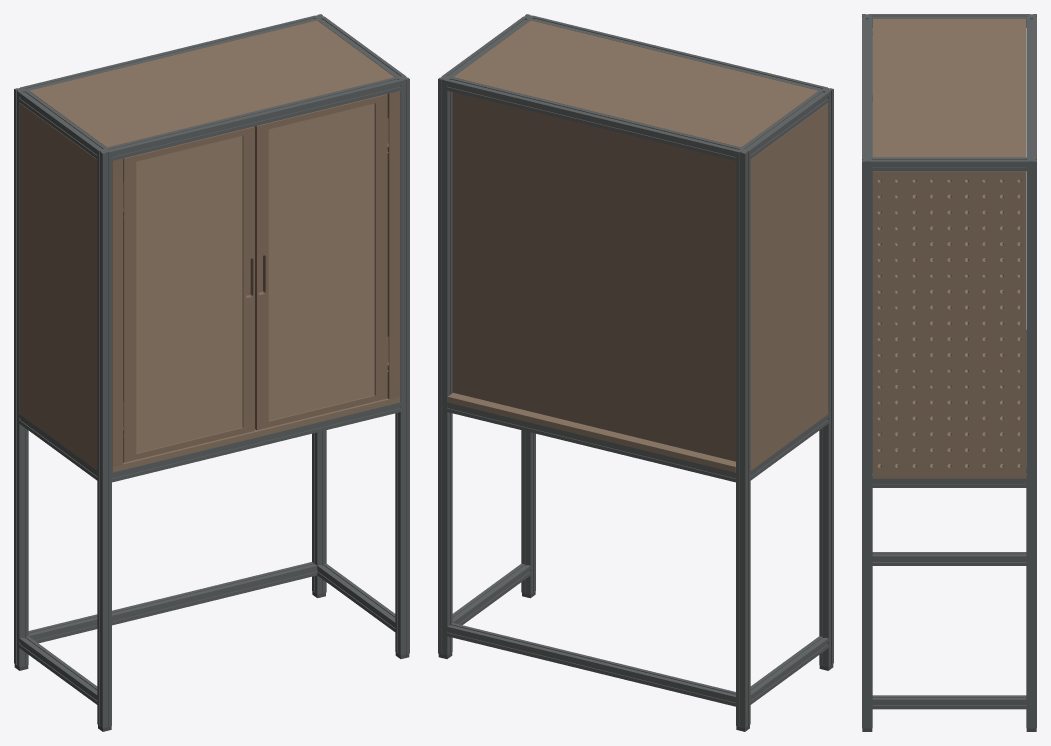
File: closed.glb
3 renders of one model, left to right at view 1: azimuth 30°, elevation 25°; view 2: azimuth 150°, elevation 25°; view 3: azimuth 270°, elevation 25°, orthographic.
Visible parts, largest first — view 1: L-front-panel, R-front-panel, B02-left-side, B01-top-inset, Post-0-0, Post-970-0, Post-0-470, Beam-top-front, R-jamb, L-hinge-stile, R-meeting-stile, R-hinge-stile (+16 smaller); view 2: B04-back, B02-left-side, B01-top-inset, Post-0-470, Post-970-470, Post-0-0, Beam-top-rear, Beam-lower-rear, B00-bottom-notched, Beam-body-rear, Post-970-0, Beam-top-front (+5 smaller); view 3: B03-right-pegboard, B01-top-inset, Post-970-0, Post-970-470, Beam-lower-side-970, Beam-top-side-970, Beam-lower-side-0, Beam-body-side-970, Beam-top-rear, Beam-top-front, Beam-top-side-0, B00-bottom-notched.
Part boxes in pixels (box(x1,y1,x2,y2)): L-front-panel: box(136, 136, 242, 452); R-front-panel: box(268, 103, 374, 420); B02-left-side: box(19, 103, 97, 470); B01-top-inset: box(29, 20, 394, 147); Post-0-0: box(97, 147, 111, 728); Post-970-0: box(395, 75, 409, 655); Post-0-470: box(14, 86, 28, 667); Beam-top-front: box(107, 77, 400, 160); R-jamb: box(387, 91, 400, 399); L-hinge-stile: box(123, 155, 136, 462); R-meeting-stile: box(254, 123, 268, 430); R-hinge-stile: box(374, 94, 387, 401); B04-back: box(452, 92, 735, 461); B02-left-side: box(750, 103, 828, 470); B01-top-inset: box(453, 20, 818, 147); Post-0-470: box(736, 147, 750, 728); Post-970-470: box(438, 75, 452, 655); Post-0-0: box(819, 86, 833, 667); Beam-top-rear: box(447, 77, 740, 160); Beam-lower-rear: box(447, 623, 735, 706); B00-bottom-notched: box(447, 392, 735, 472); Beam-body-rear: box(447, 402, 735, 482); Post-970-0: box(521, 14, 535, 594); Beam-top-front: box(531, 16, 823, 90); B03-right-pegboard: box(873, 171, 1025, 478); B01-top-inset: box(873, 18, 1025, 157); Post-970-0: box(862, 157, 872, 728); Post-970-470: box(1026, 157, 1036, 728); Beam-lower-side-970: box(872, 695, 1026, 709); Beam-top-side-970: box(872, 157, 1026, 171); Beam-lower-side-0: box(872, 552, 1026, 565); Beam-body-side-970: box(872, 474, 1026, 487); Beam-top-rear: box(1026, 18, 1036, 157); Beam-top-front: box(862, 18, 872, 157); Beam-top-side-0: box(872, 14, 1026, 27); B00-bottom-notched: box(872, 330, 1026, 473).
Size of the model in its own units: 1 by 1.8 by 0.5.
